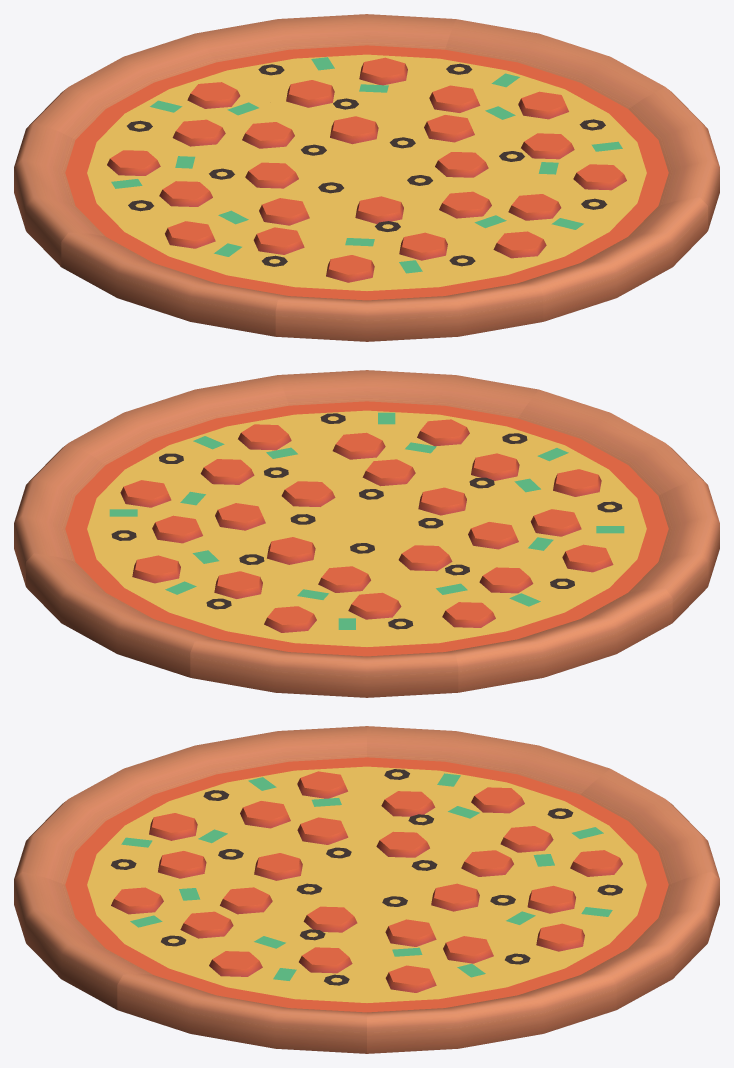
The model's file is pizza.glb.
3 views of the same model, one above another, from view 1: azimuth 30°, elevation 25°; view 2: azimuth 150°, elevation 25°; view 3: azimuth 270°, elevation 25° (orthographic).
Visible parts, largest first — view 1: slice6; view 2: slice6; view 3: slice6.
Boxes of the visible parts, x1,y1,x2,y2 form: slice6: (14, 14, 719, 341); slice6: (14, 370, 719, 697); slice6: (14, 726, 719, 1053).
Bounding box in the file's own units: 0.8418 × 0.0435 × 0.8418.
1 material, 1 textured.
